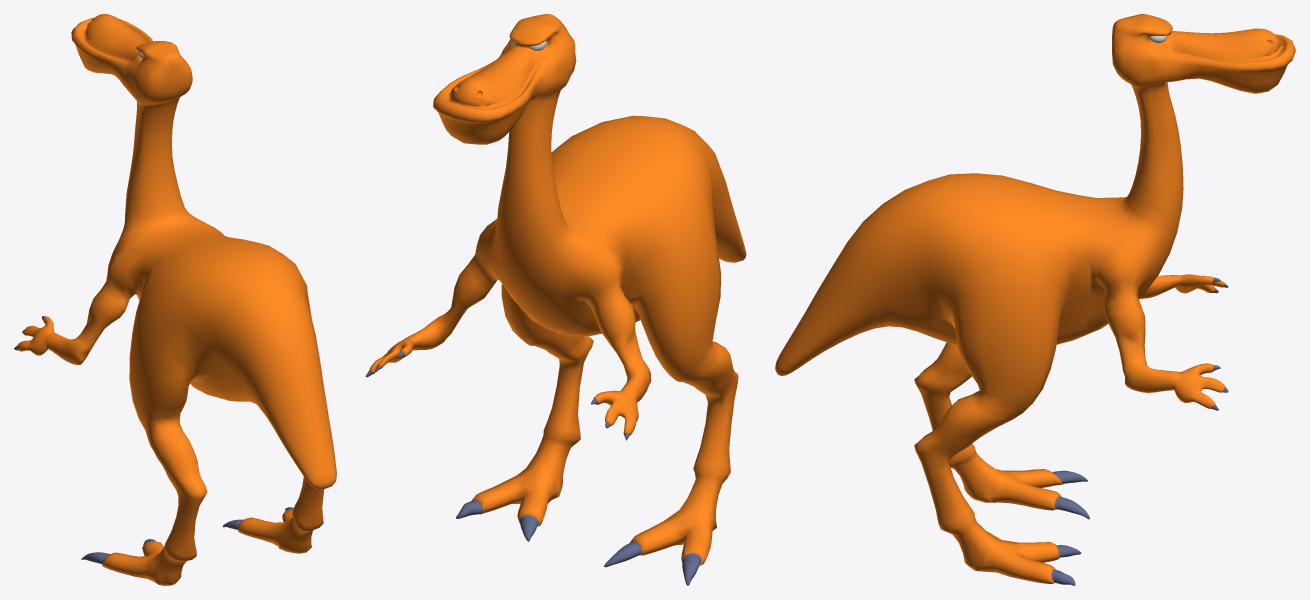
File: dinorider.obj
3 views of the same model, side by side, from view 1: azimuth 30°, elevation 25°; view 2: azimuth 150°, elevation 25°; view 3: azimuth 270°, elevation 25° (orthographic). The views are drawn at different scales.
Size of the model in its own units: 1.47 by 3 by 2.73.
